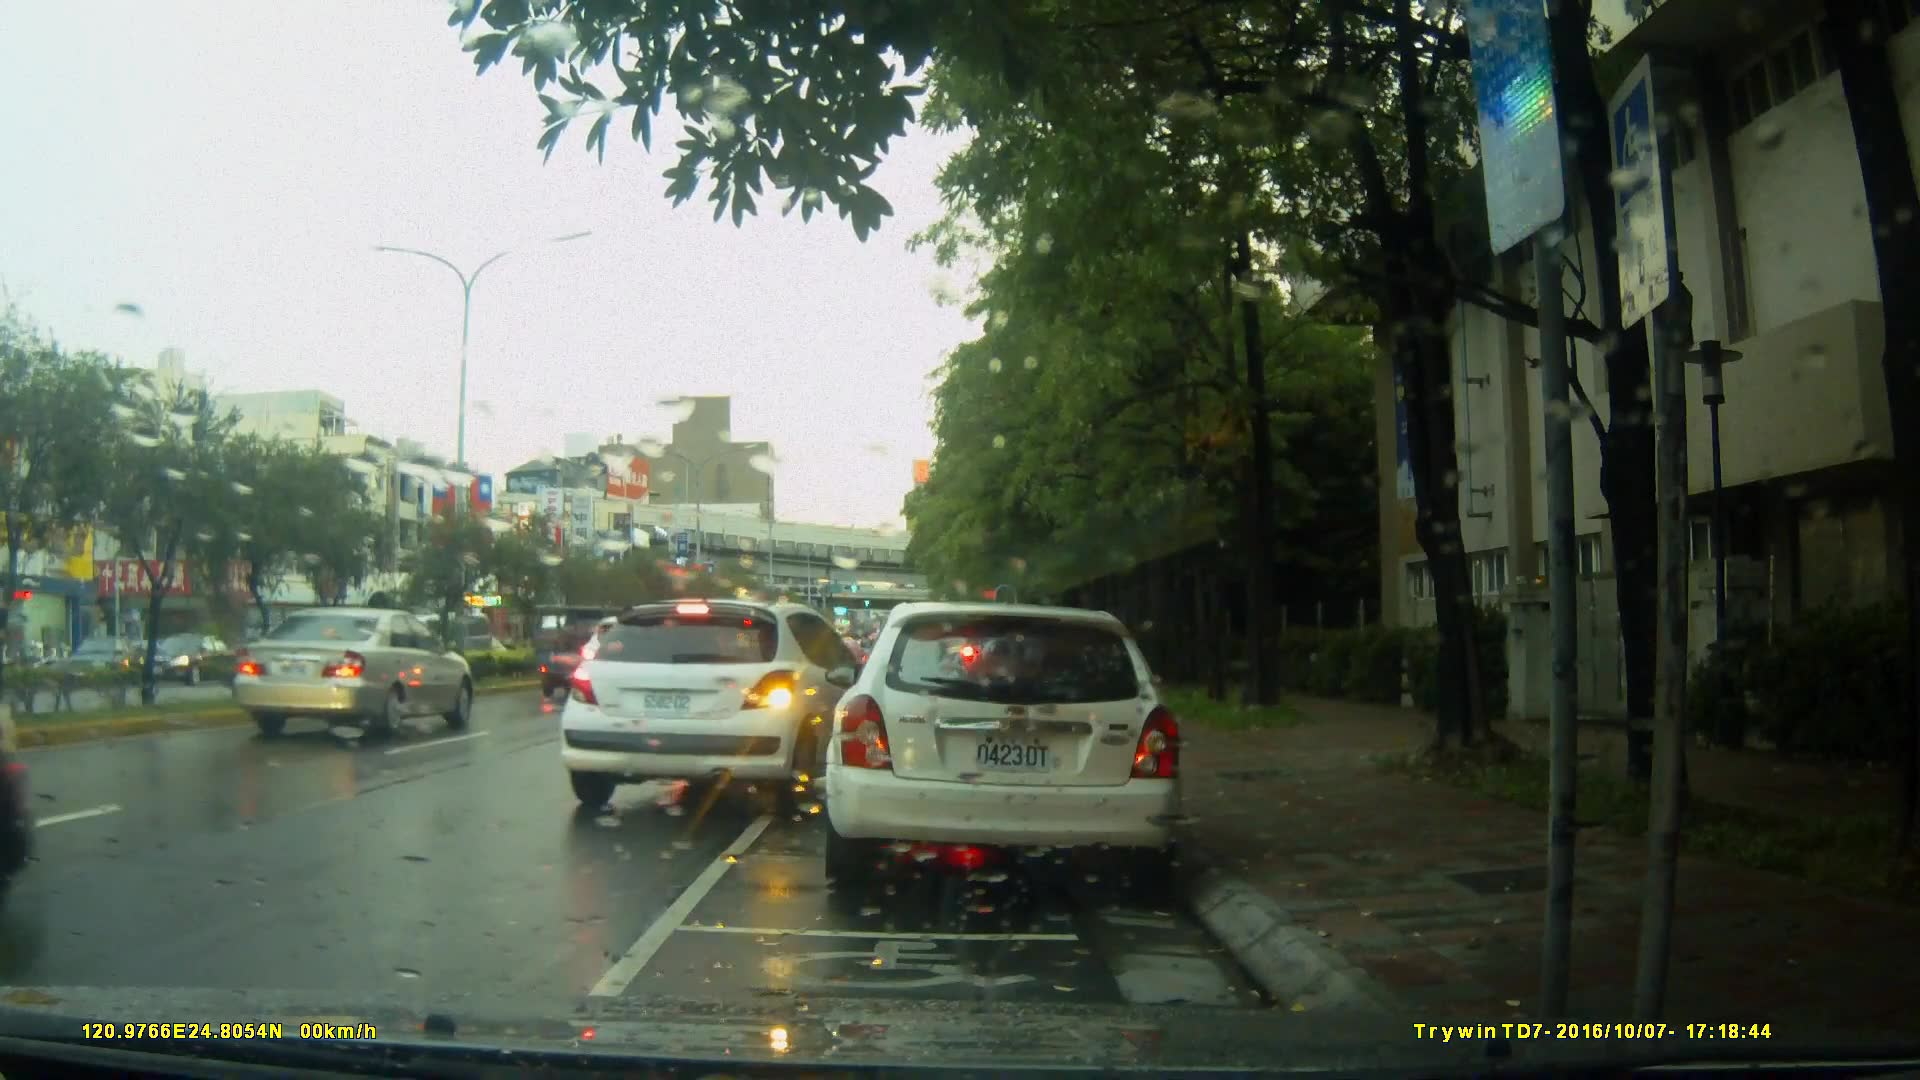vehicle: (820, 603, 1188, 898), (564, 596, 897, 815), (231, 607, 479, 740), (135, 634, 239, 688), (51, 633, 142, 684)
